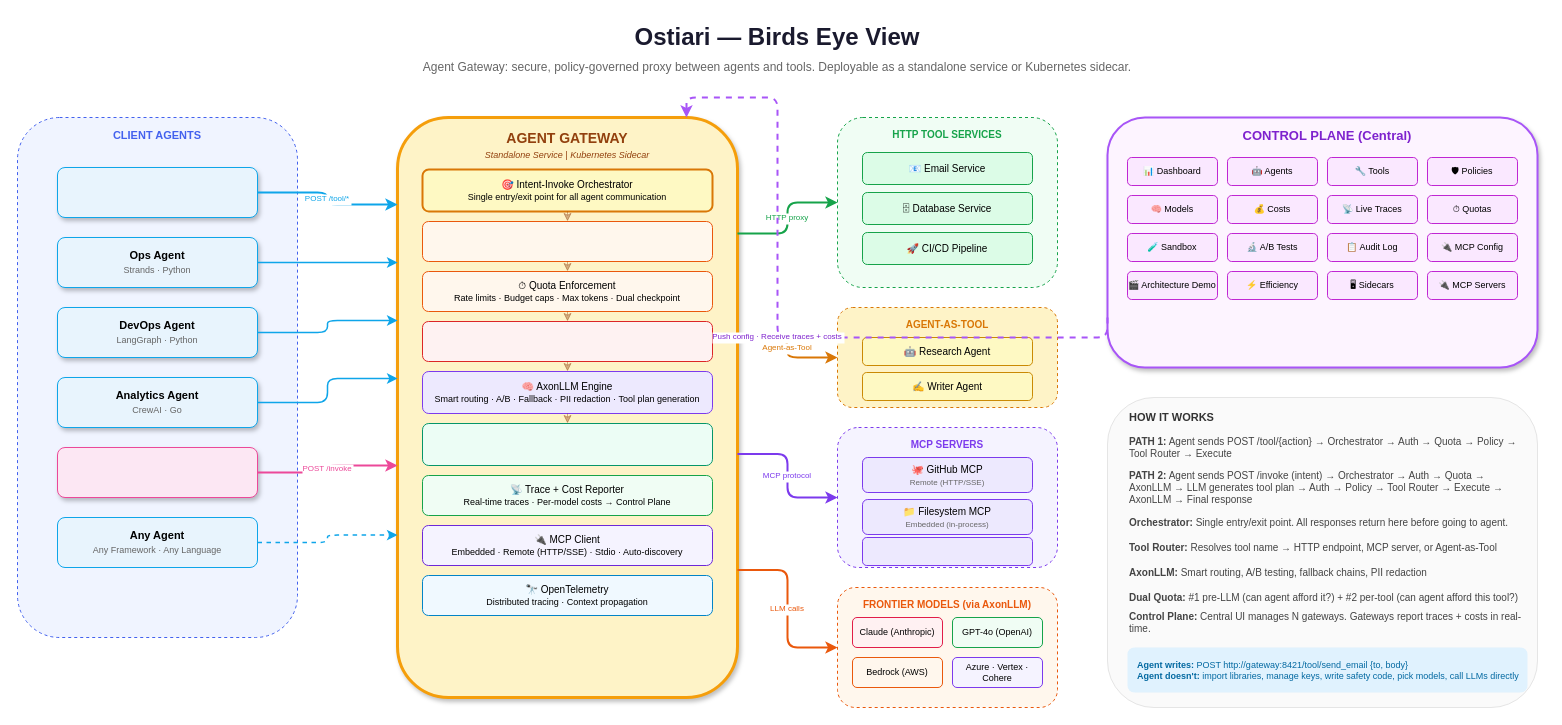
Image size: 1562x725. Some labels were removed from this diagram. The shapes that lost their labels are listed below. From the top down, each one's centre as x and y in pixels, then its label:
pixel 158 193: CRM Agent OpenAI · Java
pixel 567 241: 🔐 Agent Authorization Per-agent tool grants (least privilege)
pixel 567 341: 🛡 Policy Engine Allow / Block / Risk Score · Per-tool validation
pixel 567 444: 🔀 Tool Router Resolve tool → HTTP endpoint / MCP server / Agent-as-Tool
pixel 158 473: DevOps Smart Agent LLM-Driven (POST /invoke)
pixel 947 551: 🔌 Any MCP Server Auto-discovered tools
